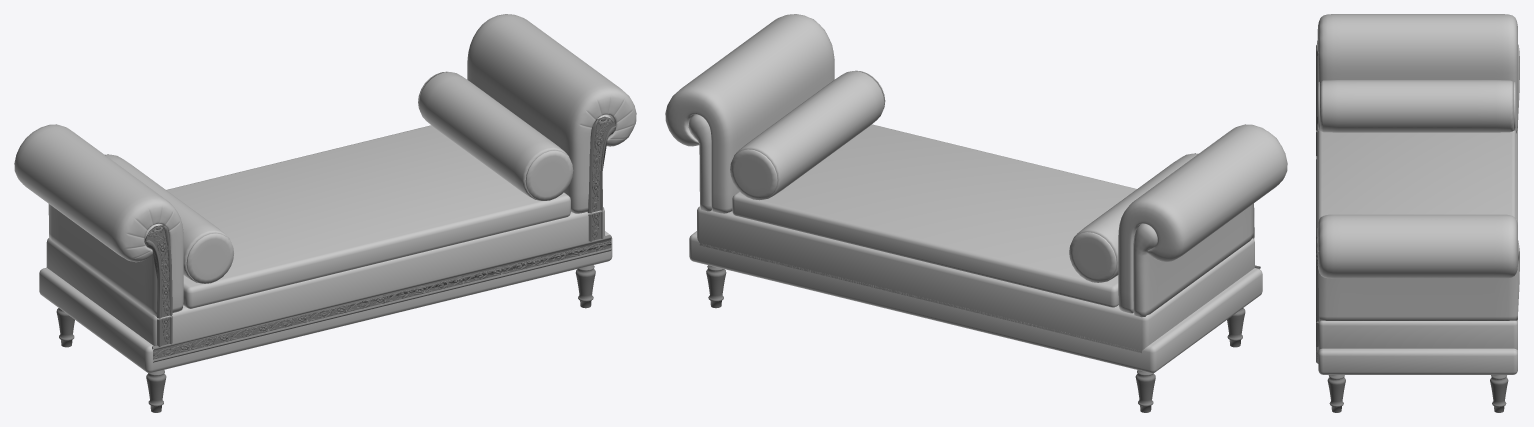
File: canapea.glb
3 views of the same model, side by side, from view 1: azimuth 30°, elevation 25°; view 2: azimuth 150°, elevation 25°; view 3: azimuth 270°, elevation 25° (orthographic). The views are drawn at different scales.
Visible parts, largest first — view 1: node_id56, node_id17, node_id35, node_id14, node_id44, node_id50, node_id53, node_id11, node_id62, node_id38, node_id29, node_id26 (+1 smaller); view 2: node_id56, node_id17, node_id35, node_id14, node_id50, node_id44, node_id11, node_id62, node_id41, node_id23, node_id59; view 3: node_id56, node_id14, node_id35, node_id62, node_id41, node_id17, node_id50, node_id26, node_id23, node_id29, node_id53.
Boxes of the visible parts, x1=… form: node_id56: x1=166, y1=125, x2=570, y2=308; node_id17: x1=46, y1=207, x2=604, y2=345; node_id35: x1=467, y1=14, x2=636, y2=213; node_id14: x1=14, y1=124, x2=183, y2=312; node_id44: x1=418, y1=71, x2=573, y2=200; node_id50: x1=39, y1=231, x2=612, y2=373; node_id53: x1=152, y1=235, x2=611, y2=362; node_id11: x1=48, y1=204, x2=161, y2=316; node_id62: x1=105, y1=154, x2=233, y2=283; node_id38: x1=145, y1=225, x2=172, y2=318; node_id29: x1=587, y1=116, x2=615, y2=213; node_id26: x1=575, y1=265, x2=595, y2=308; node_id56: x1=732, y1=124, x2=1136, y2=307; node_id17: x1=697, y1=206, x2=1254, y2=353; node_id35: x1=665, y1=14, x2=834, y2=213; node_id14: x1=1118, y1=124, x2=1287, y2=313; node_id50: x1=689, y1=231, x2=1262, y2=373; node_id44: x1=730, y1=70, x2=885, y2=200; node_id11: x1=1133, y1=203, x2=1253, y2=317; node_id62: x1=1069, y1=153, x2=1198, y2=282; node_id41: x1=688, y1=114, x2=711, y2=211; node_id23: x1=706, y1=265, x2=726, y2=308; node_id59: x1=1135, y1=370, x2=1155, y2=412; node_id56: x1=1317, y1=123, x2=1516, y2=235; node_id14: x1=1317, y1=14, x2=1517, y2=133; node_id35: x1=1317, y1=214, x2=1517, y2=278; node_id62: x1=1318, y1=80, x2=1515, y2=132; node_id41: x1=1319, y1=240, x2=1519, y2=321; node_id17: x1=1318, y1=128, x2=1517, y2=349; node_id50: x1=1318, y1=348, x2=1517, y2=374; node_id26: x1=1327, y1=375, x2=1345, y2=412; node_id23: x1=1490, y1=375, x2=1508, y2=412; node_id29: x1=1316, y1=236, x2=1319, y2=321; node_id53: x1=1316, y1=156, x2=1318, y2=363.
Bounding box in the file's own units: 0.1383 × 0.0555 × 0.0517.
Materials: 18 (18 with a texture image).
